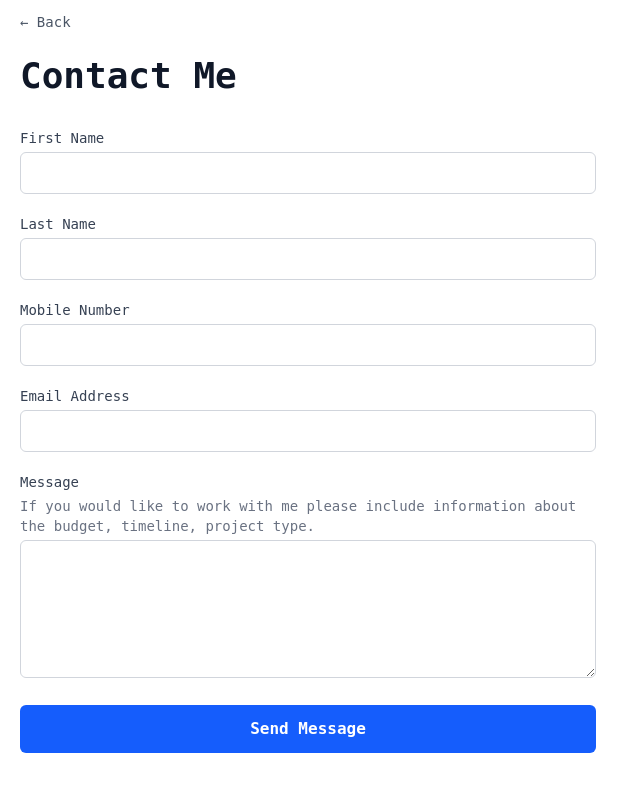
Test: ContactForm (en-GB, default locale) › client-side validation on blur › shows the localized message-too-short error from enGB dict when a short message is entered and blurred
Type "short" into the text box labelled "Message". click: (308, 609)
box: [20, 540, 596, 678]
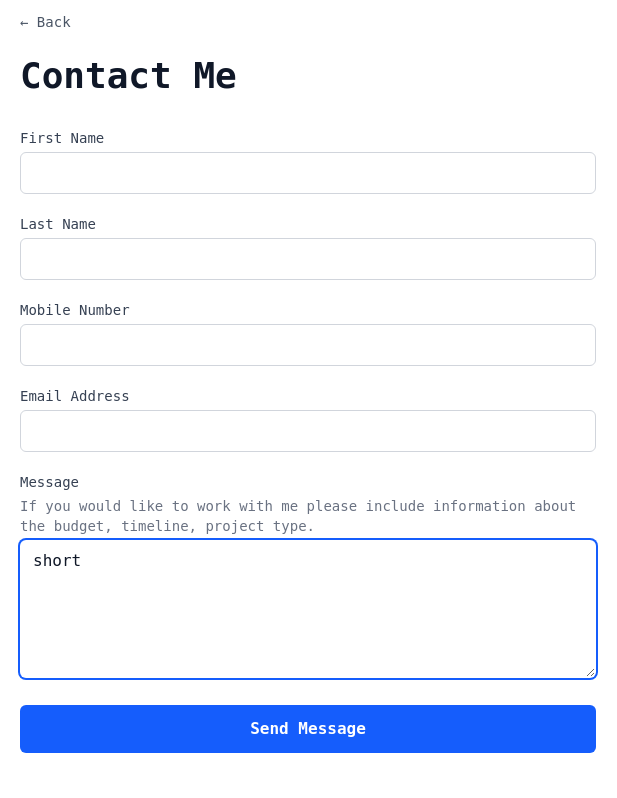
Press Tab
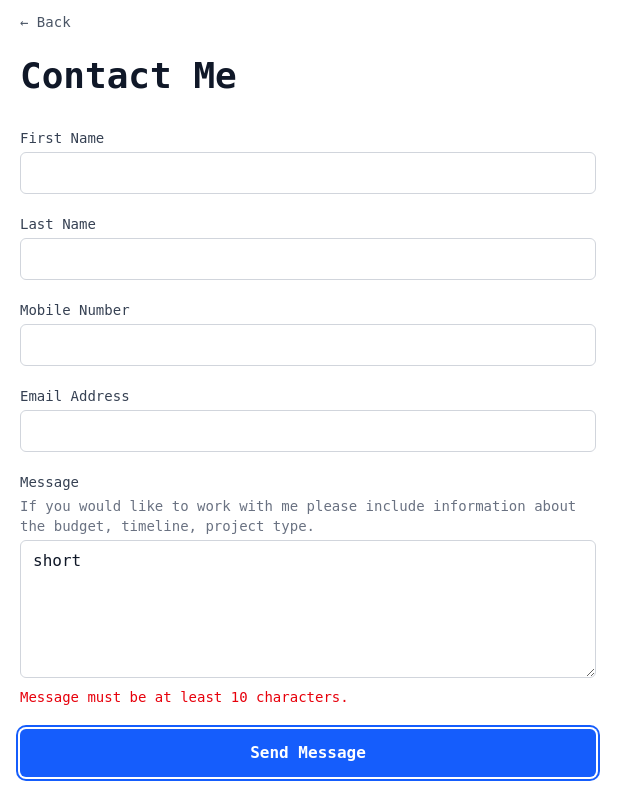
Now the text "Message must be at least 10 characters." is shown, box [20, 689, 349, 705]
